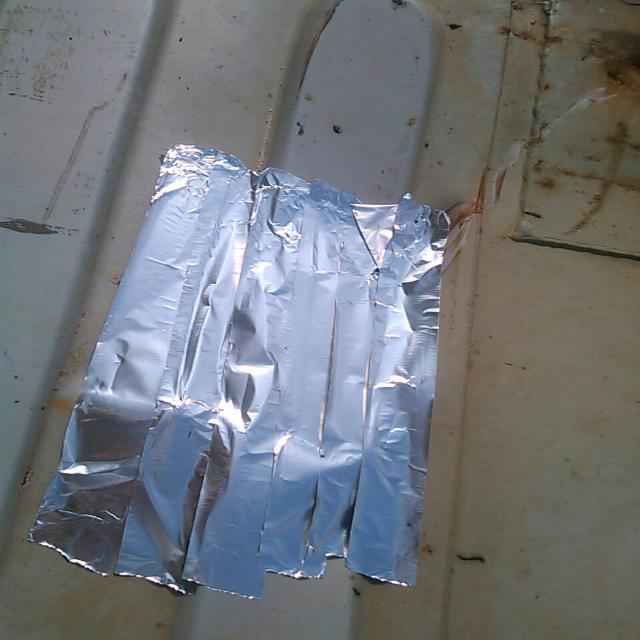rust: (559, 117, 635, 236), (582, 27, 640, 102)
